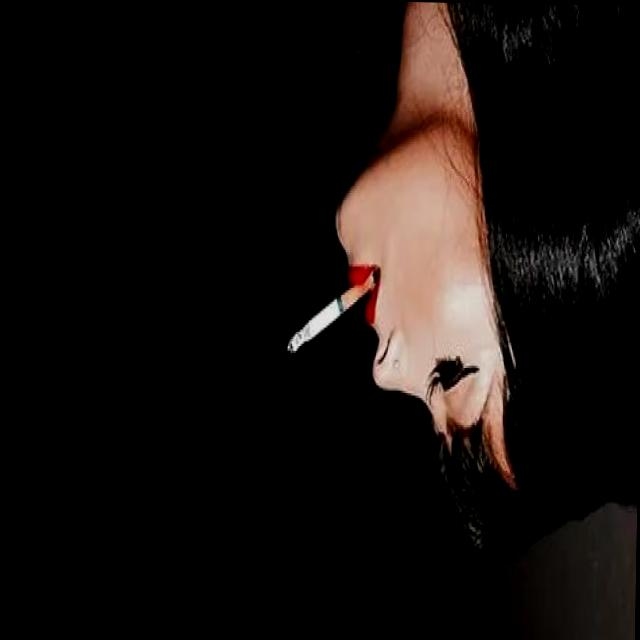cigarette: (286, 260, 380, 364)
